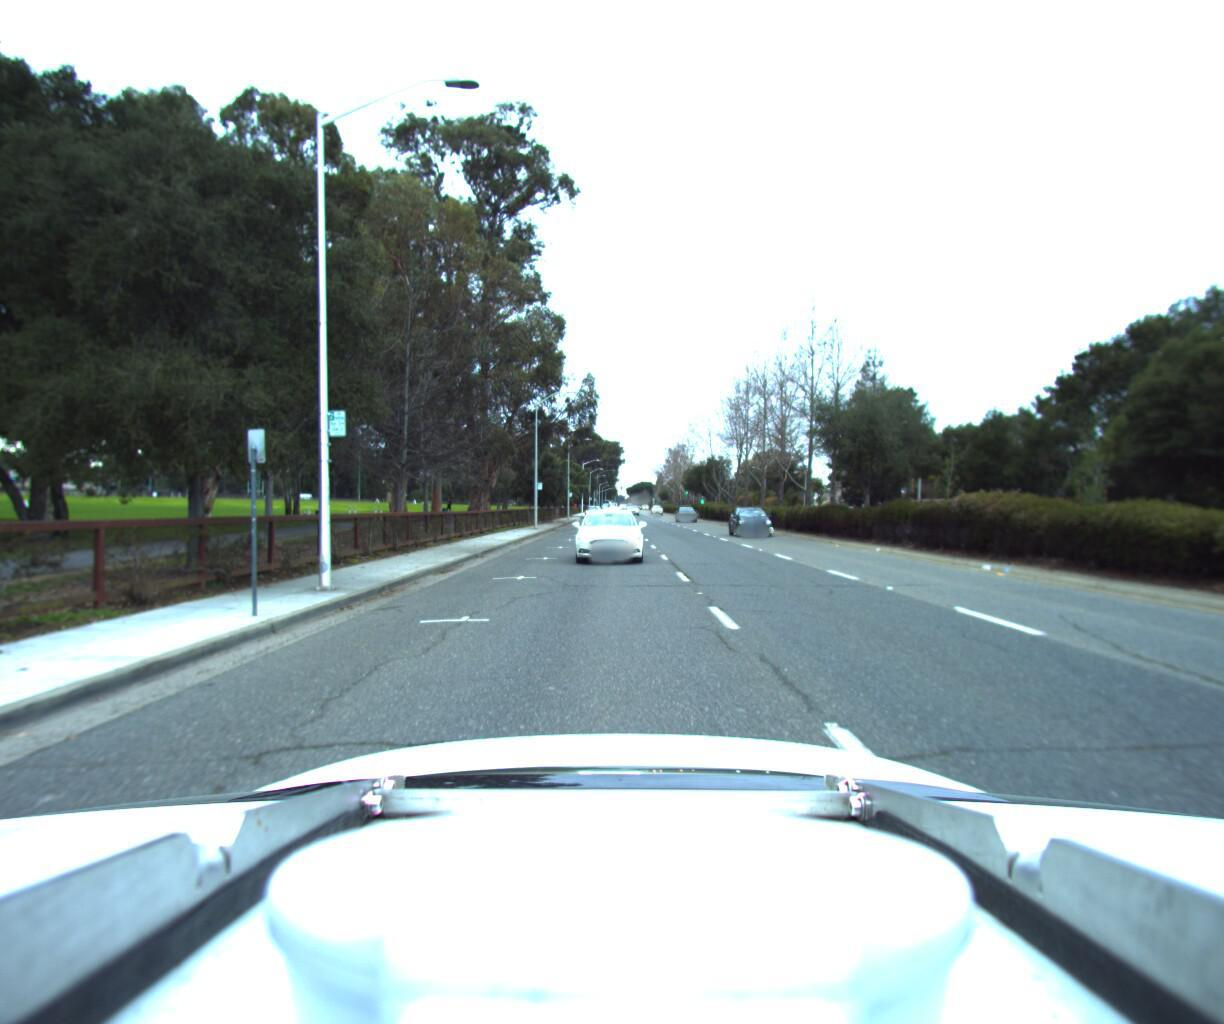car: (577, 503, 642, 563), (907, 489, 970, 531), (731, 503, 777, 536), (676, 499, 698, 515)
